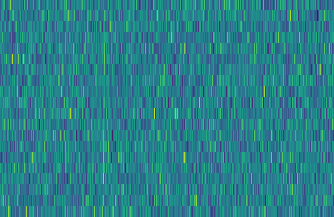signal: (96, 0, 107, 217)
